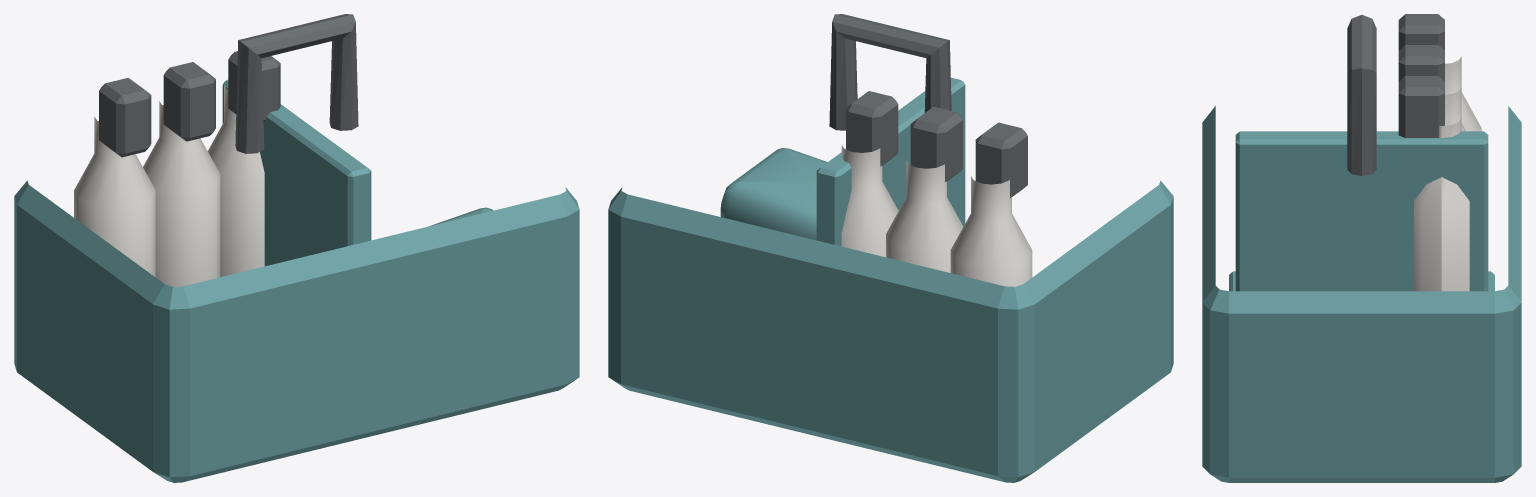
Rendered from hotel-and-resort-operations-cleaning-caddy-43ee24d5__25889.glb.
The picture shows the model from 3 angles, left to right: view 1: azimuth 30°, elevation 25°; view 2: azimuth 150°, elevation 25°; view 3: azimuth 270°, elevation 25°; orthographic projection. The views are drawn at different scales.
Parts seen in each view (by area): view 1: cleaning-caddy; view 2: cleaning-caddy; view 3: cleaning-caddy.
Part boxes in pixels (x1=…): cleaning-caddy: x1=14, y1=14, x2=579, y2=482; cleaning-caddy: x1=608, y1=14, x2=1173, y2=482; cleaning-caddy: x1=1202, y1=14, x2=1521, y2=482.
Bounding box in the file's own units: 0.36 × 0.2878 × 0.24.
